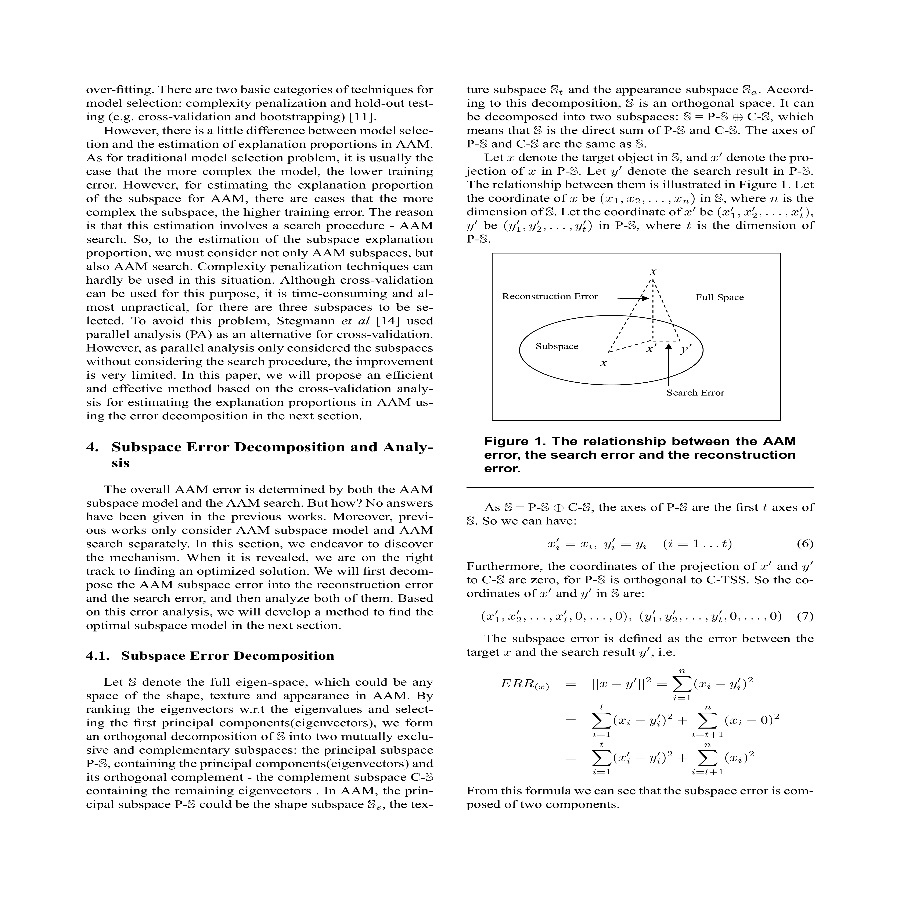eq: (496, 668, 783, 775), (477, 606, 785, 627), (546, 531, 738, 553)
